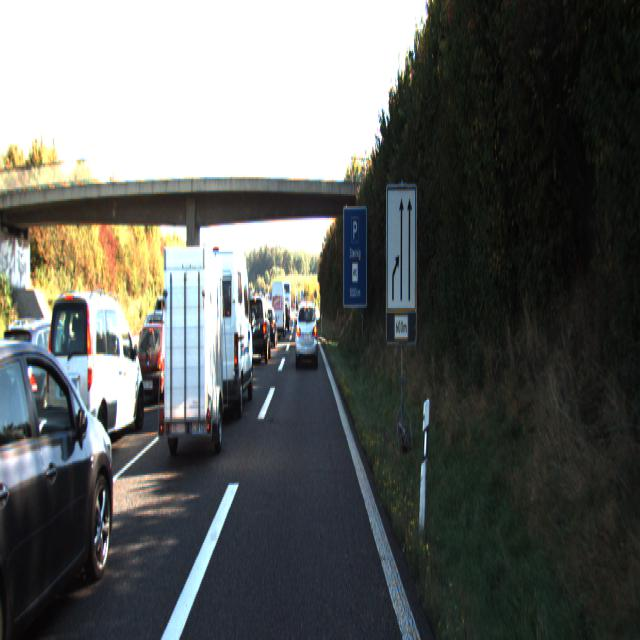Car: (0, 325, 125, 639), (46, 286, 146, 460), (154, 239, 230, 464), (0, 316, 95, 441), (192, 240, 255, 420), (136, 318, 184, 404), (244, 292, 271, 362), (295, 298, 318, 366), (270, 276, 286, 332), (261, 308, 278, 349)
